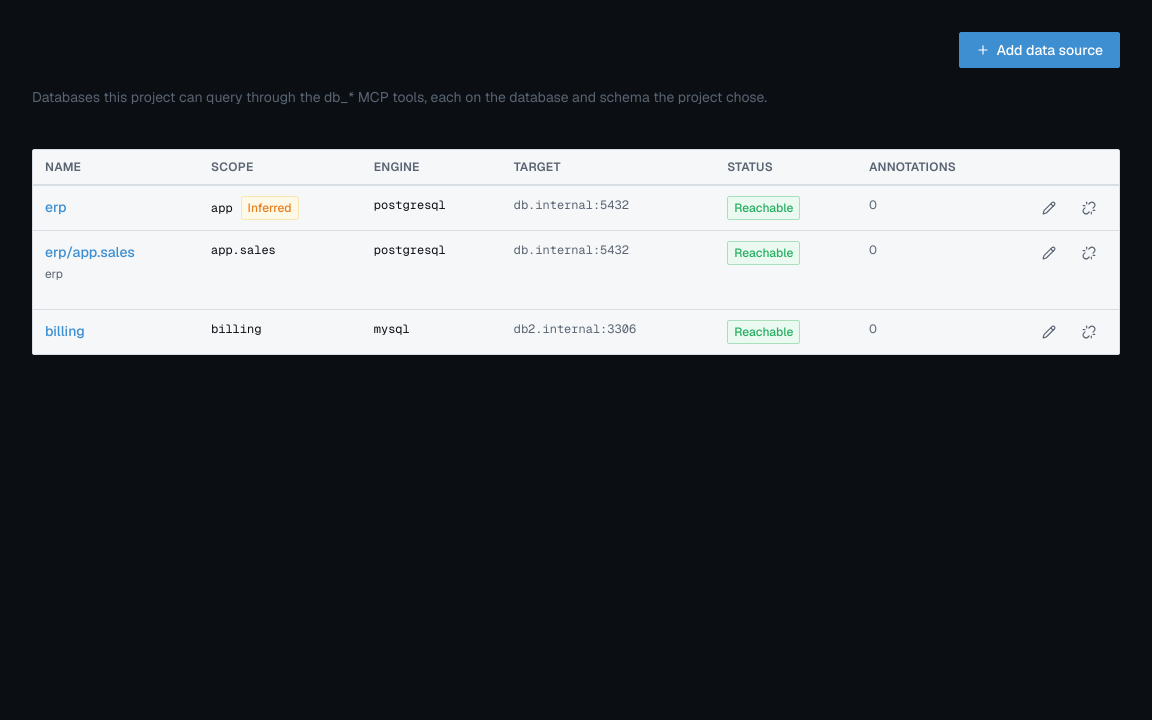
Data Sources page › adds a data source through the scope dialog
The width and height of the screenshot is (1152, 720).
Expected: the link "erp/app.sales" is shown, [45,243,135,261]
Click the button "Add data source" at (1040, 50), box [959,32,1120,68]
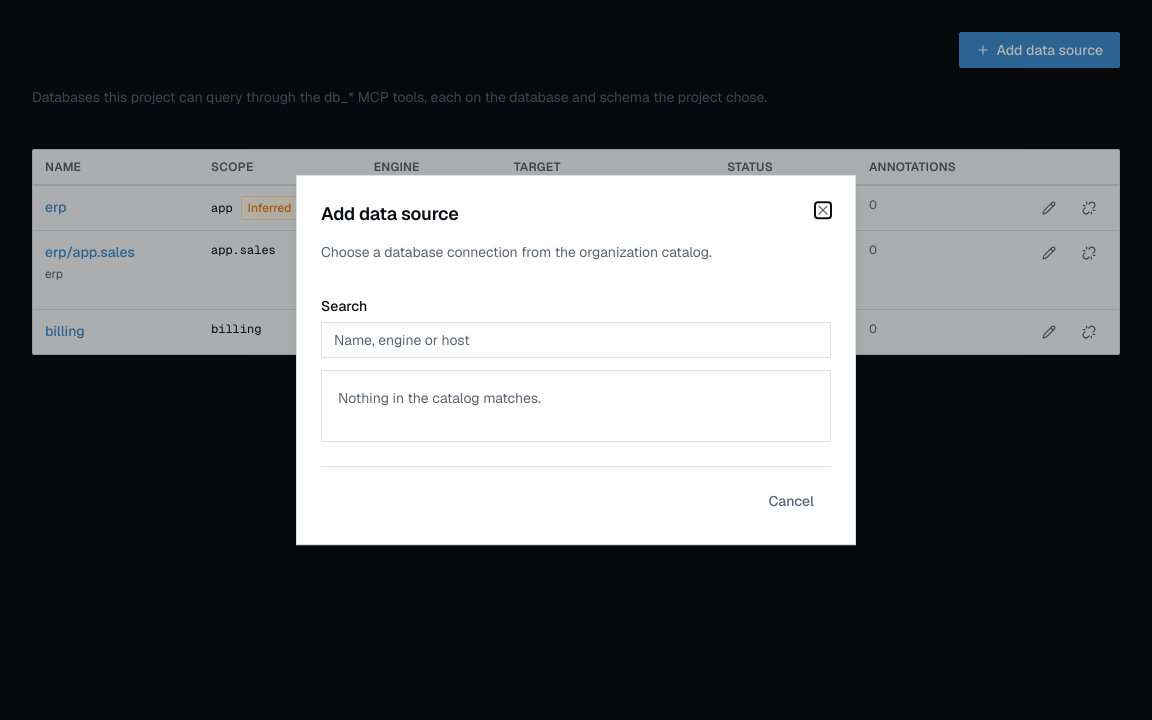
Result: the text "Choose a database connection from the organization catalog." is shown at [321,241,712,263]
